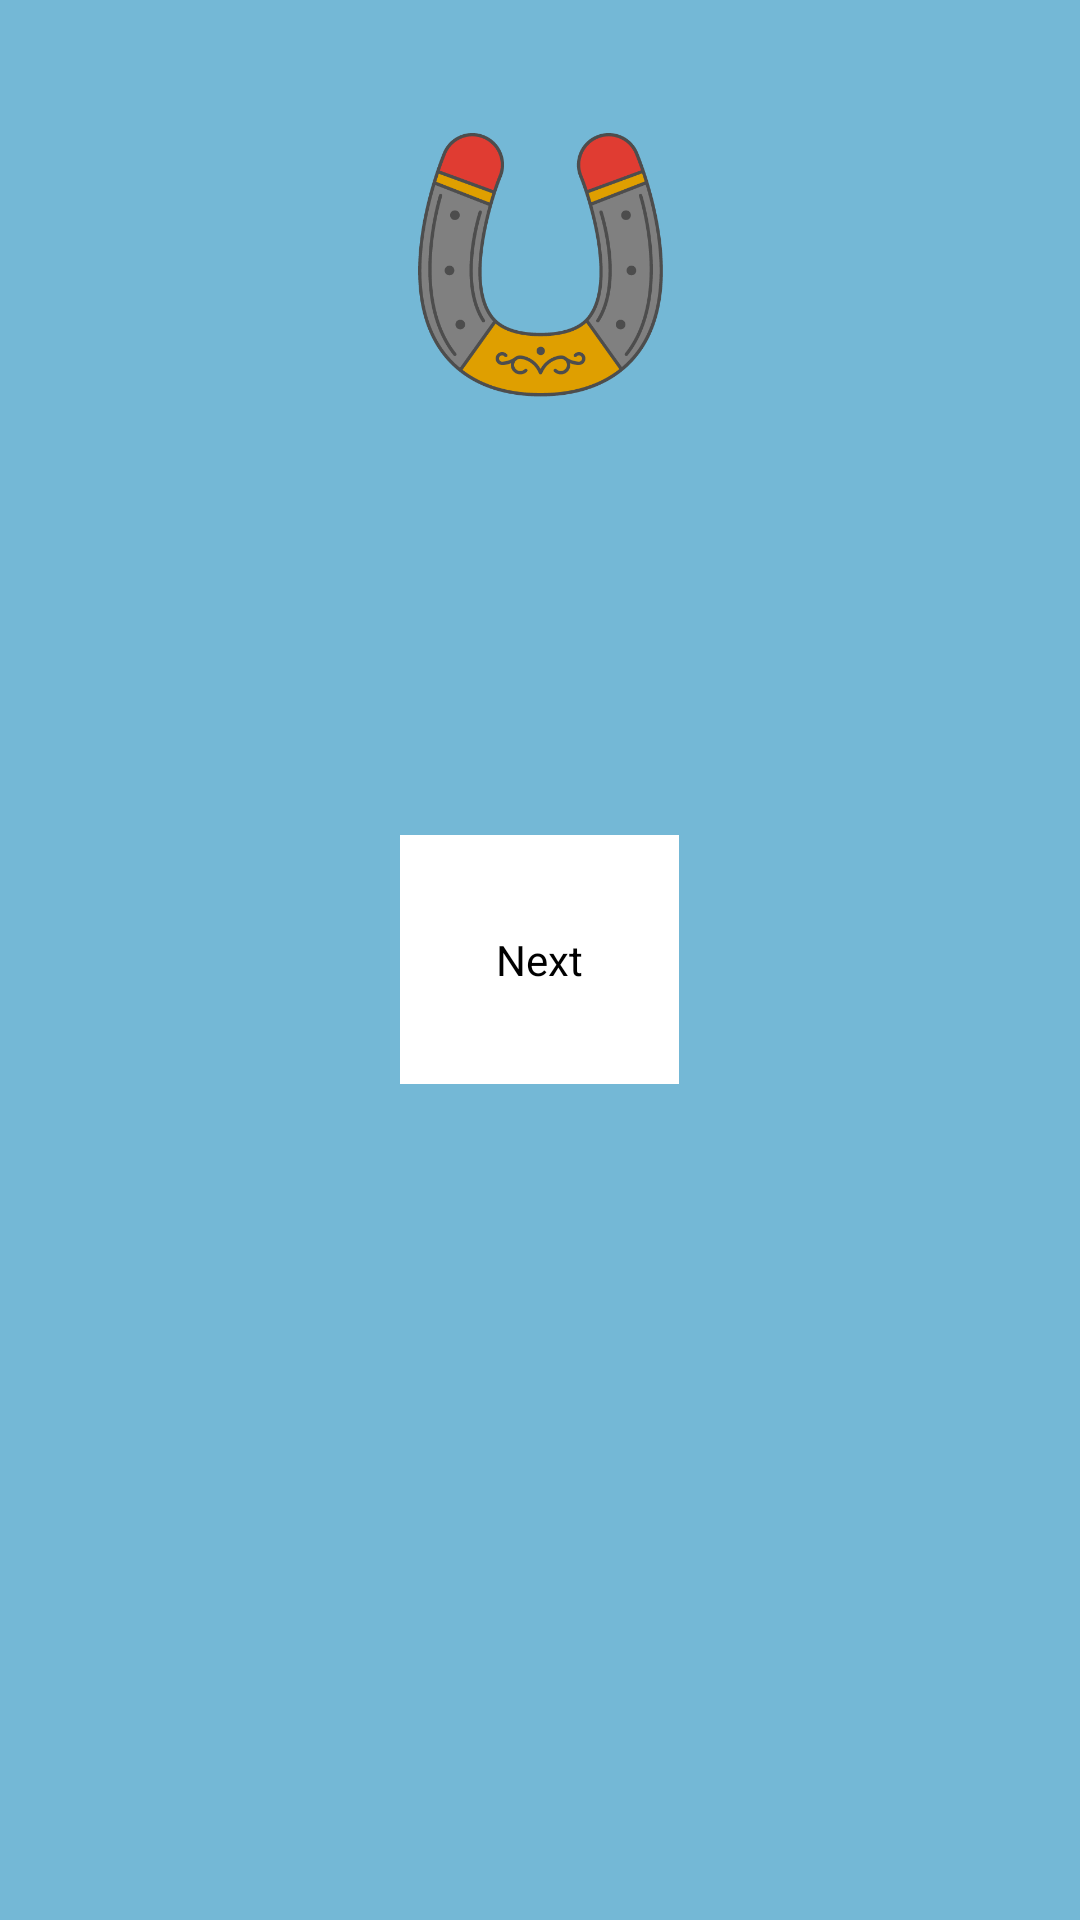

Icon click points for this 1080×1920 phone screenshot, format point (x, y):
lucky: point (540, 265)
